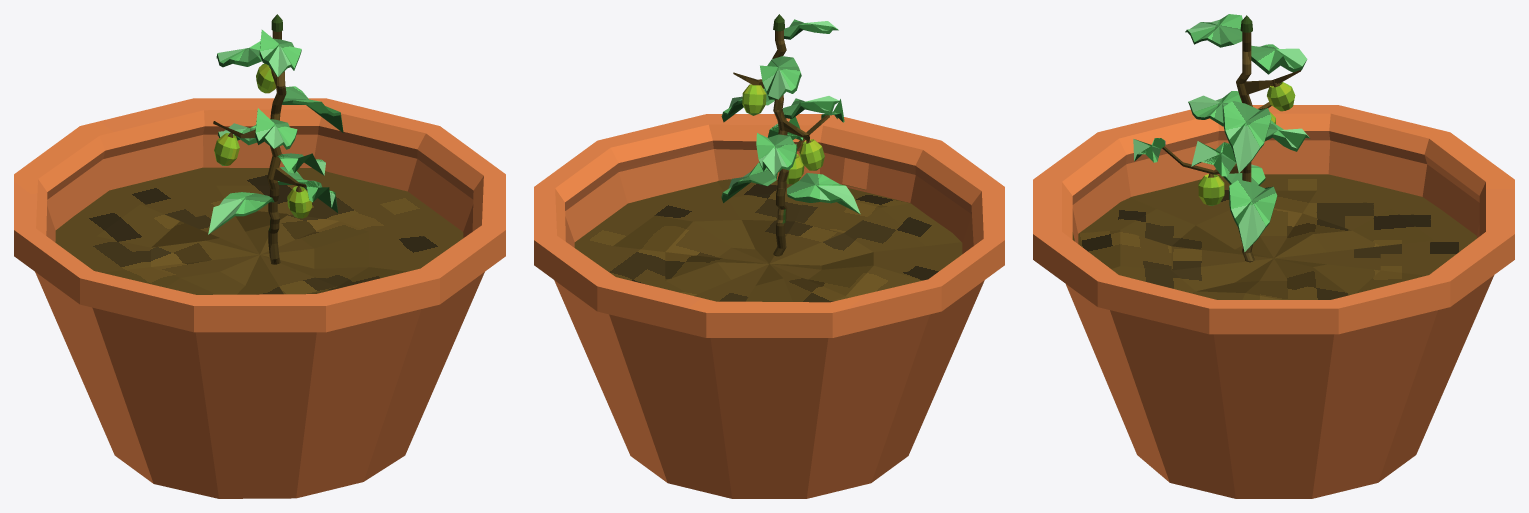
File: plantpot_fruitling_tomato.gltf
The picture shows the model from 3 angles, left to right: view 1: azimuth 30°, elevation 25°; view 2: azimuth 150°, elevation 25°; view 3: azimuth 270°, elevation 25°; orthographic projection. The views are drawn at different scales.
Visible parts, largest first — view 1: pot, soil, Left Leaf (×6), Stem_selection, Tomato (×2); view 2: pot, soil, Left Leaf (×6), Stem_selection, Tomato (×2); view 3: pot, soil, Left Leaf (×8), Stem_selection, Tomato (×2).
Part boxes in pixels (box(x1,y1,x2,y2)): pot: box(14, 98, 505, 498); soil: box(55, 167, 463, 294); Left Leaf (×6): box(208, 30, 343, 234); Stem_selection: box(213, 14, 306, 264); Tomato (×2): box(214, 130, 312, 218); pot: box(534, 114, 1004, 498); soil: box(574, 179, 962, 302); Left Leaf (×6): box(721, 19, 860, 214); Stem_selection: box(733, 14, 829, 256); Tomato (×2): box(742, 84, 824, 170); pot: box(1033, 105, 1514, 498); soil: box(1072, 174, 1476, 299); Left Leaf (×8): box(1133, 14, 1309, 251); Stem_selection: box(1162, 15, 1300, 262); Tomato (×2): box(1198, 79, 1295, 205).
Bounding box in the file's own units: 2.12 × 2.06 × 2.12.
5 materials, 5 textured.
